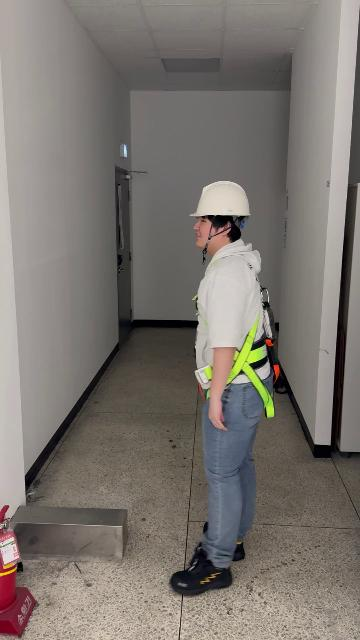helmet_worn: (188, 180, 252, 219)
shoe_worn: (170, 550, 232, 594), (233, 539, 245, 561)
vest_worn: (194, 261, 275, 412)
